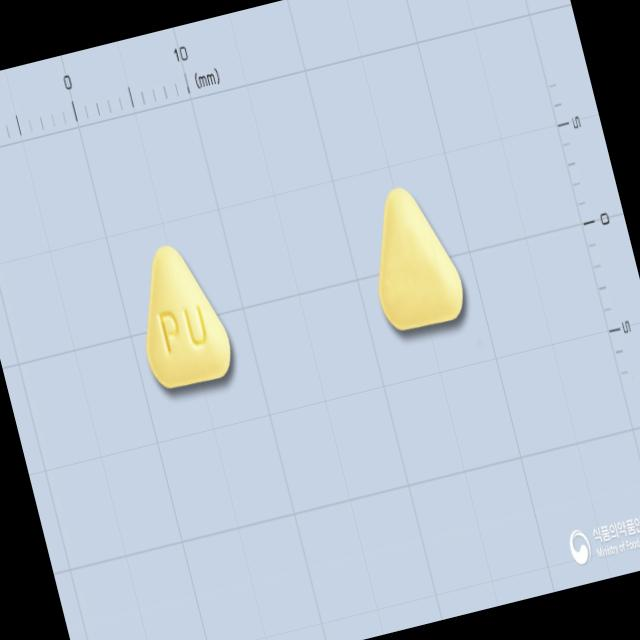Rheumakin Tab-20mg: (121, 234, 238, 392)
